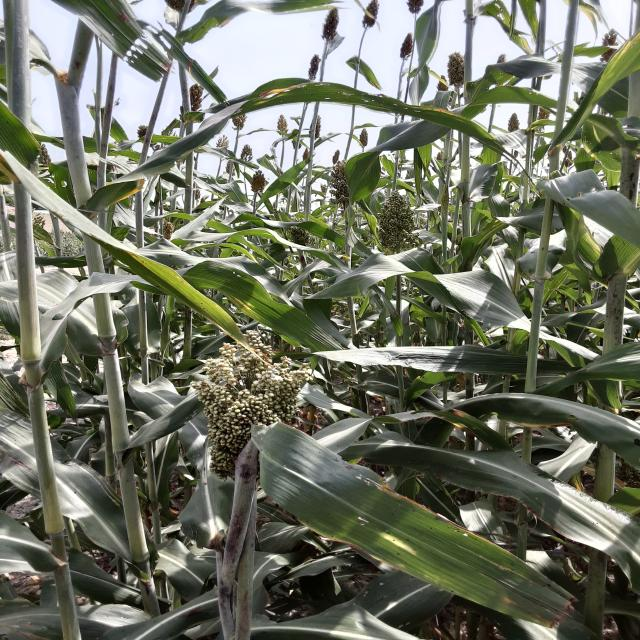UnripeSorghum: (171, 317, 320, 504)
